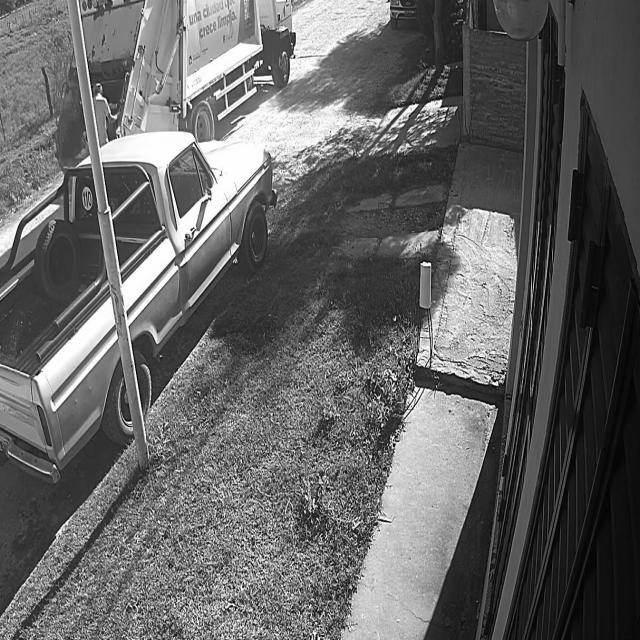Garbage Truck: (56, 0, 298, 166)
Pickup: (0, 132, 272, 485)
